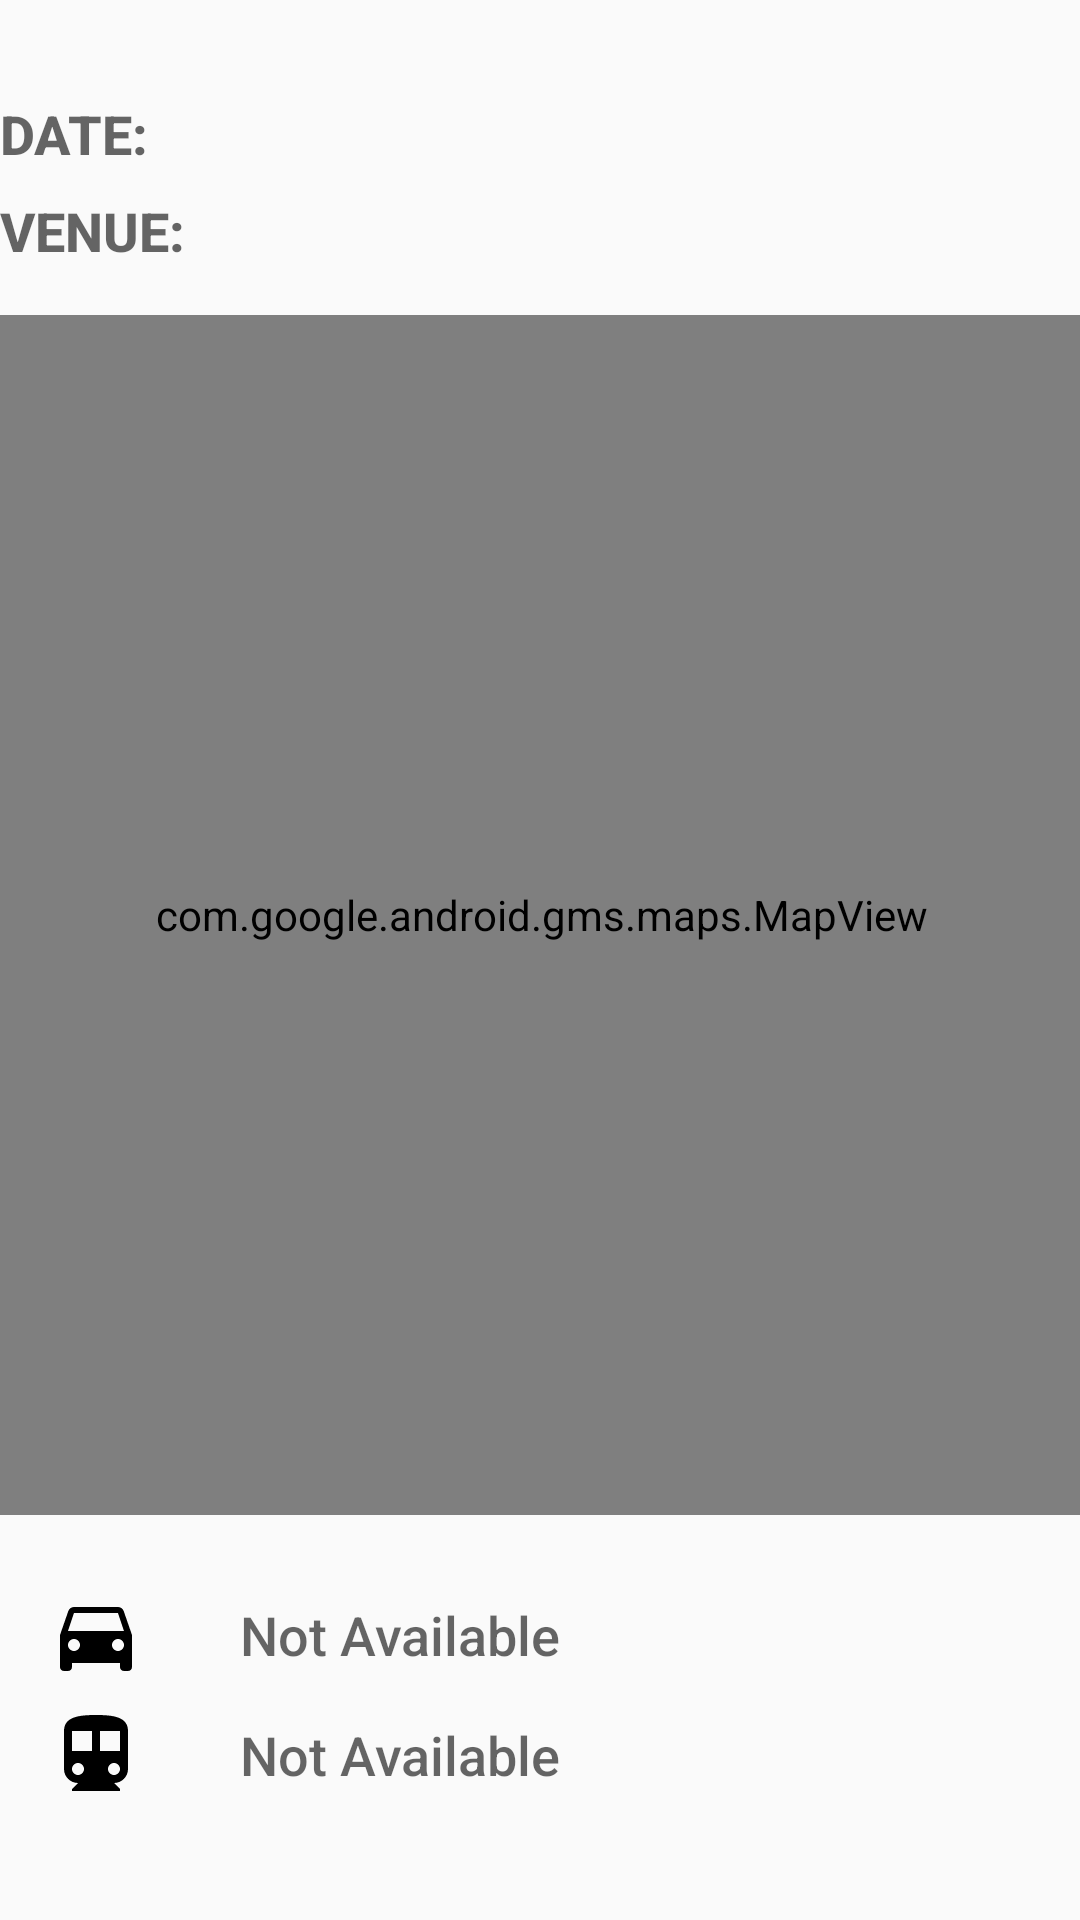

Icons on this 1080x1920 Android screen, each with the point to tap as (x,y):
directions car: (96,1639)
directions transit: (96,1753)
